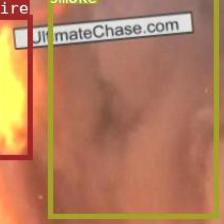fire: (0, 14, 32, 159)
smoke: (47, 0, 218, 217)
